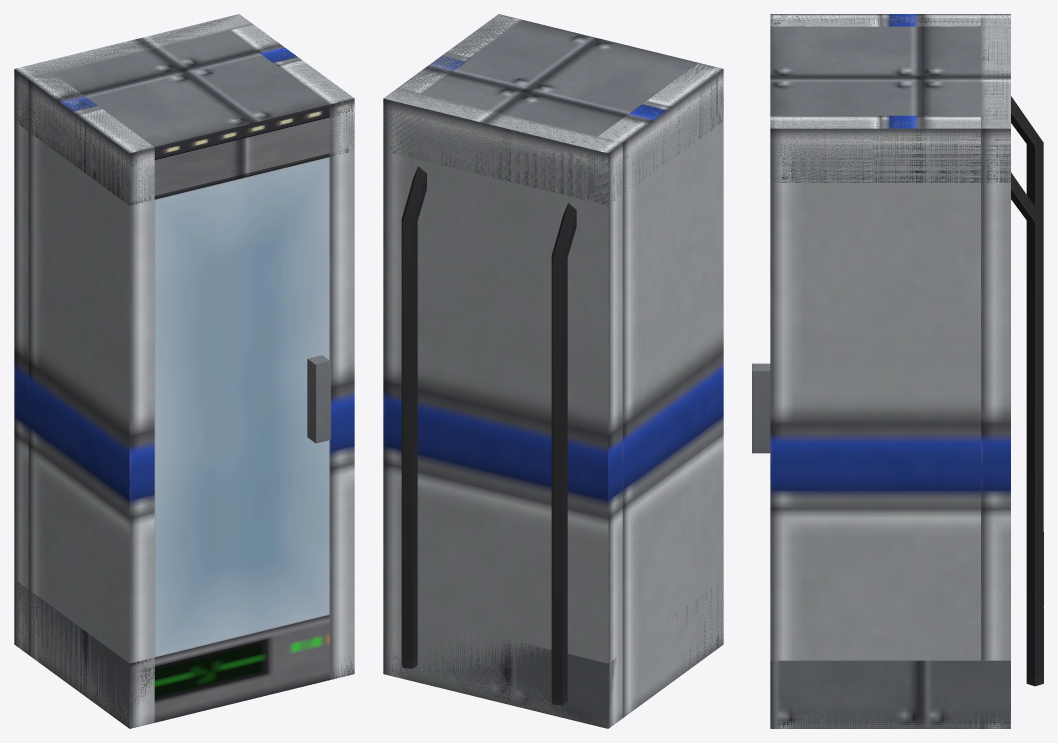
File: cryo_pod.obj
3 renders of one model, left to right at view 1: azimuth 30°, elevation 25°; view 2: azimuth 150°, elevation 25°; view 3: azimuth 270°, elevation 25°, orthographic. The views are drawn at different scales.
Visible parts, largest first — view 1: cryo_pod, cryo_pod_lid; view 2: cryo_pod; view 3: cryo_pod, cryo_pod_lid.
Boxes of the visible parts, box(x1,y1,x2,y2) form: cryo_pod: box(14, 14, 354, 728); cryo_pod_lid: box(154, 157, 330, 657); cryo_pod: box(383, 14, 723, 728); cryo_pod: box(770, 14, 1043, 728); cryo_pod_lid: box(752, 363, 770, 453).
Bounding box in the file's own units: 0.9 × 2.2 × 0.9685.
1 material, 1 textured.
